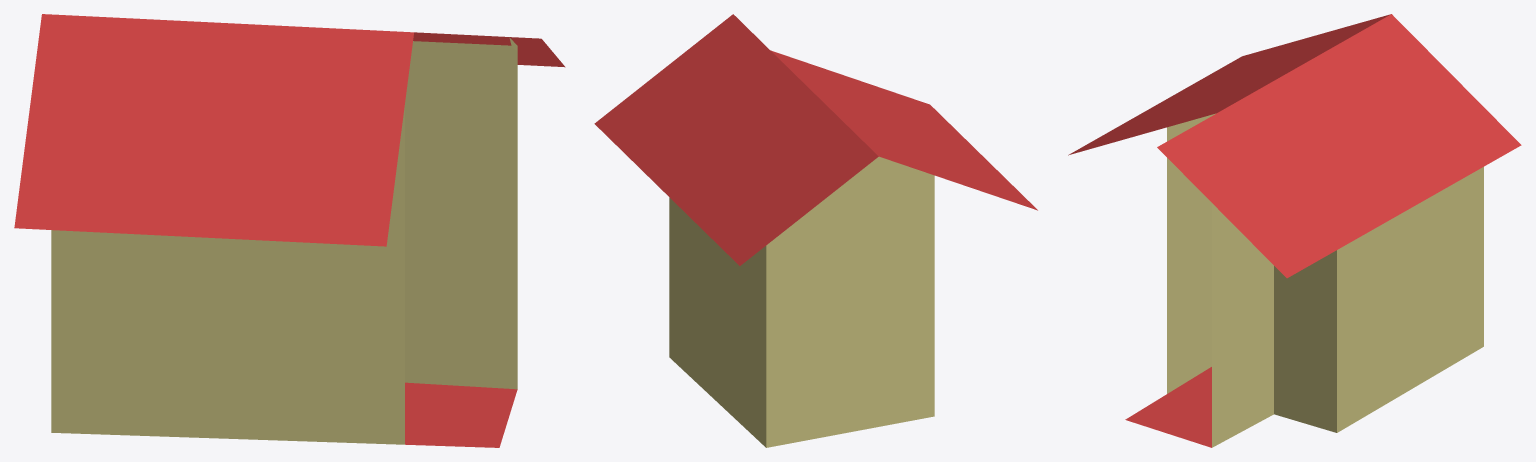
3 renders of one model, left to right at view 1: azimuth 30°, elevation 25°; view 2: azimuth 150°, elevation 25°; view 3: azimuth 270°, elevation 25°, orthographic. The views are drawn at different scales.
Size of the model in its own units: 14.94 by 12.97 by 9.33.
